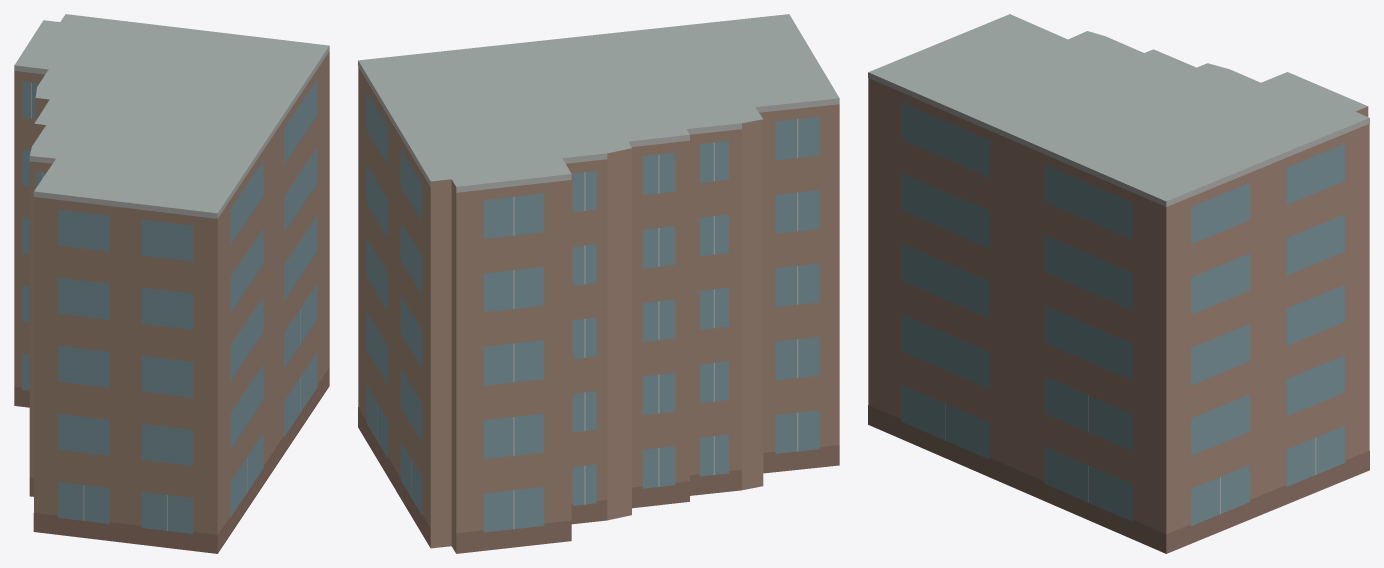
Rendered from survey-upis-32763674.glb.
The picture shows the model from 3 angles, left to right: view 1: azimuth 30°, elevation 25°; view 2: azimuth 150°, elevation 25°; view 3: azimuth 270°, elevation 25°; orthographic projection. The views are drawn at different scales.
Visible parts, largest first — view 1: survey-upis-32763674.tmp; view 2: survey-upis-32763674.tmp; view 3: survey-upis-32763674.tmp.
Boxes of the visible parts, left/top/right/bottom form: survey-upis-32763674.tmp: left=14, top=14, right=329, bottom=553; survey-upis-32763674.tmp: left=358, top=14, right=839, bottom=553; survey-upis-32763674.tmp: left=868, top=14, right=1369, bottom=553.
Bounding box in the file's own units: 17.41 × 15.25 × 19.68.
